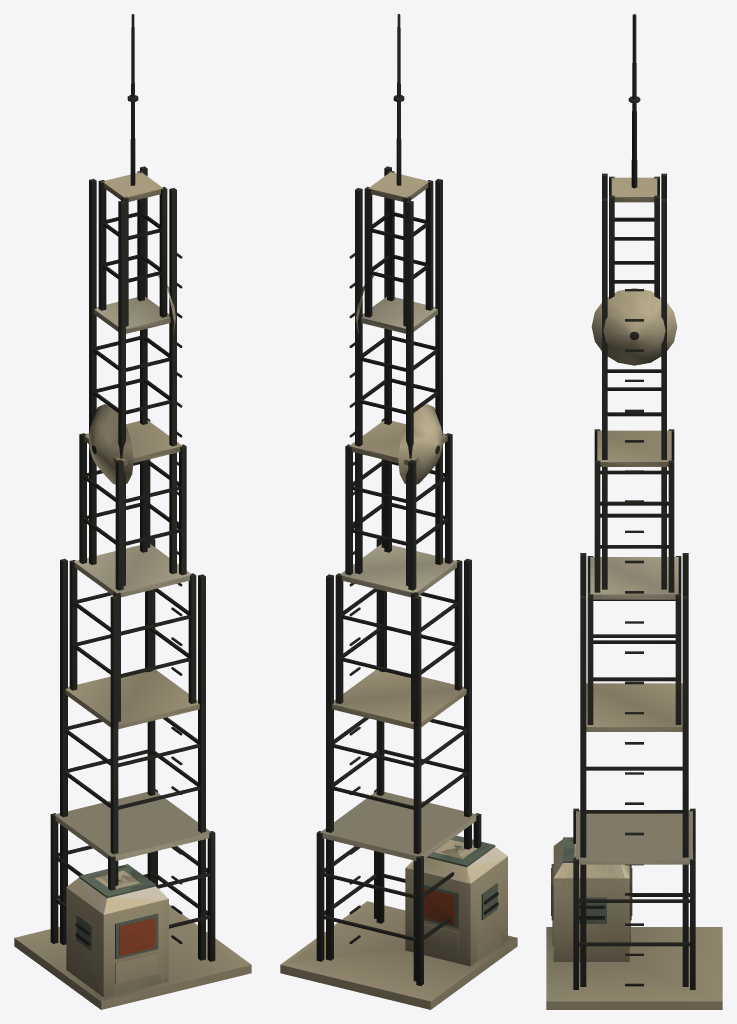
The model's file is neutral_relay_transmitter.glb.
3 views of the same model, side by side, from view 1: azimuth 30°, elevation 25°; view 2: azimuth 150°, elevation 25°; view 3: azimuth 270°, elevation 25° (orthographic).
Visible parts, largest first — view 1: body (×3); view 2: body (×3); view 3: body (×3).
Part boxes in pixels (x1,y1,x2,y2): body (×3): [14, 14, 251, 1009]; body (×3): [280, 14, 517, 1009]; body (×3): [546, 14, 722, 1009].
Size of the model in its own units: 3.7 by 22.2 by 3.7.
